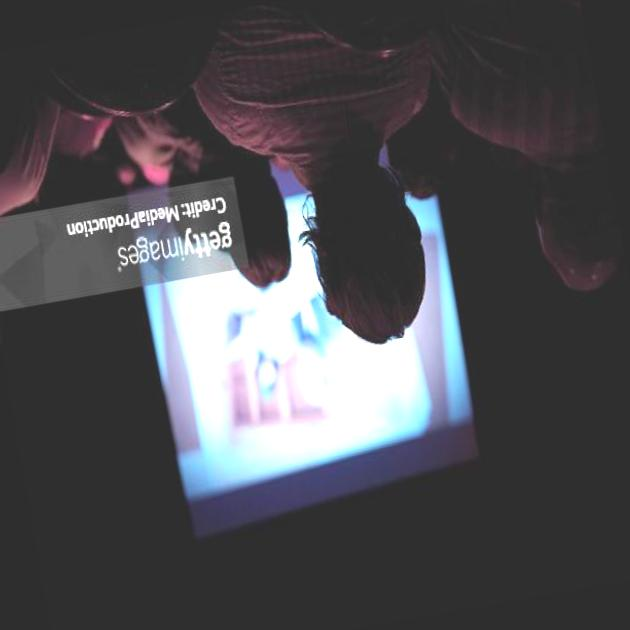projector: (97, 153, 497, 554)
